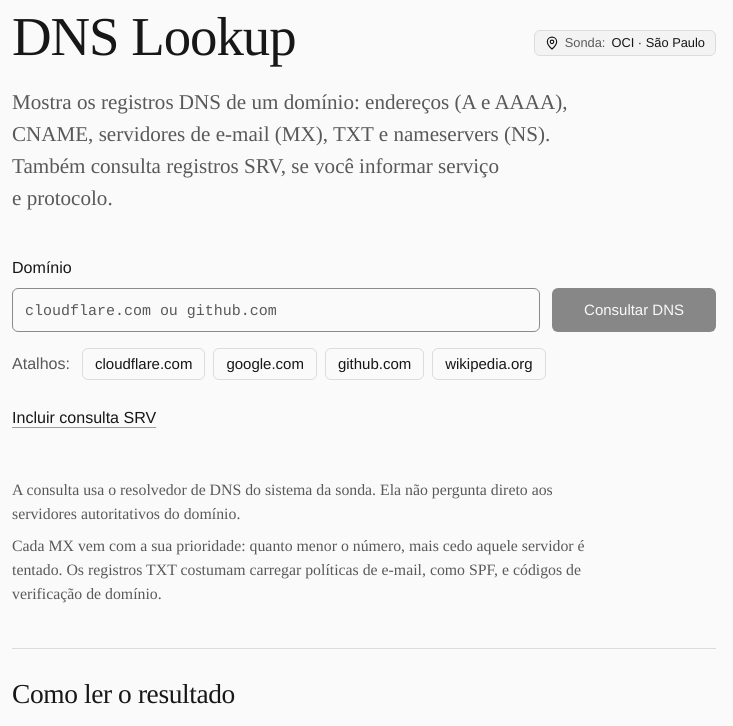
Scenario: DnsLookup (comportamento) › domínio inexistente (domain_not_found) é vermelho; outros erros são cinza
Type "naoexiste.invalid" into the field at (276, 310), box x1=12 y1=288 x2=540 y2=332
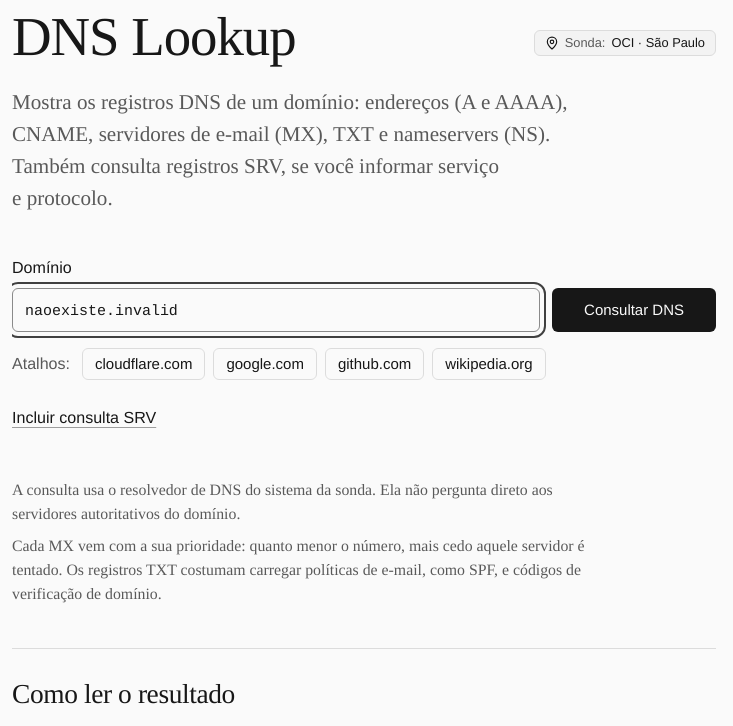
Click the button "Consultar DNS" at (634, 310), box x1=552 y1=288 x2=716 y2=332
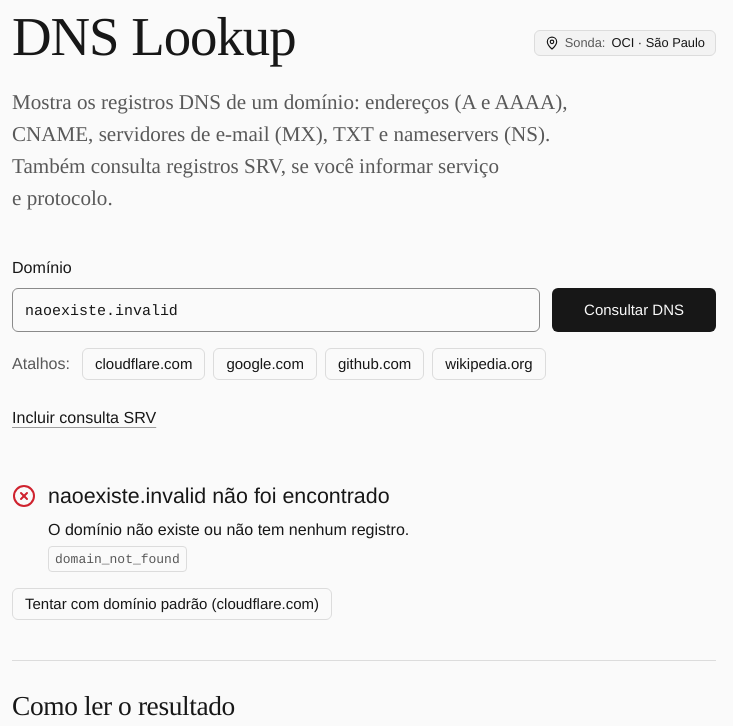
expect the heading "naoexiste.invalid não foi encontrado" is shown: met, box x1=48 y1=480 x2=390 y2=512
expect the text "O domínio não existe ou não tem nenhum registro." is shown: met, box x1=48 y1=520 x2=409 y2=539
